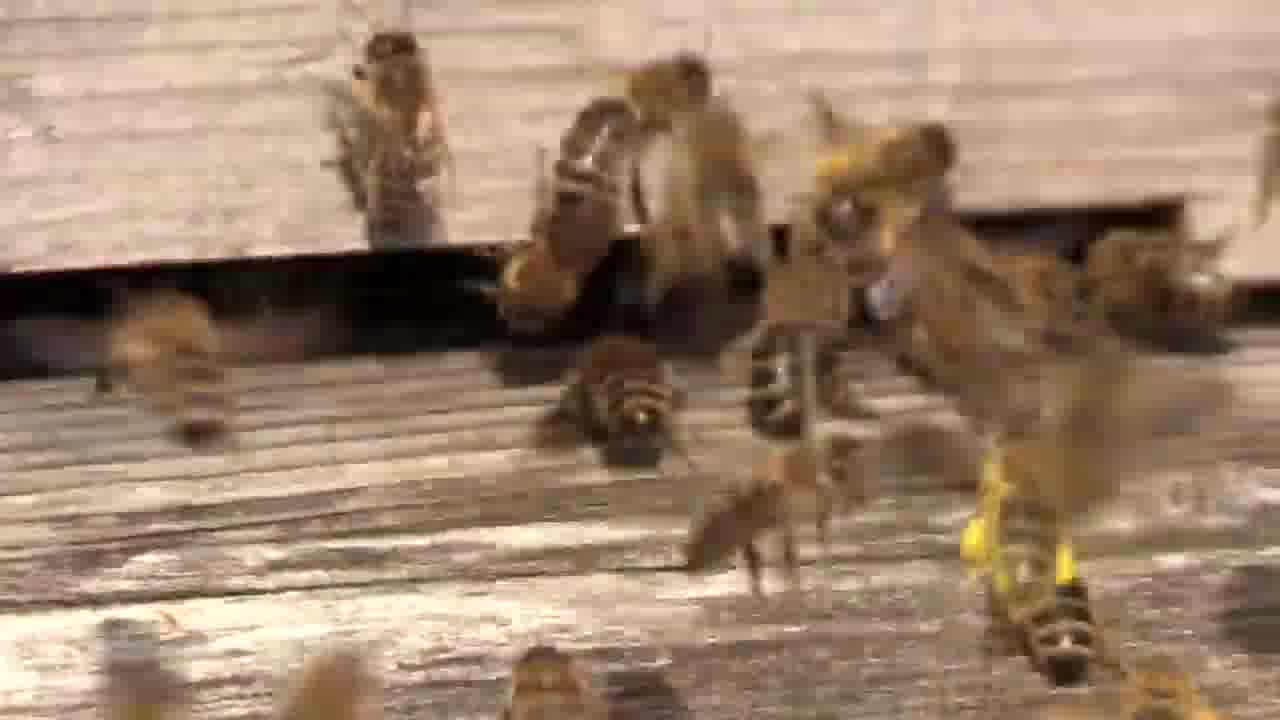pollen: (959, 436, 1085, 628)
